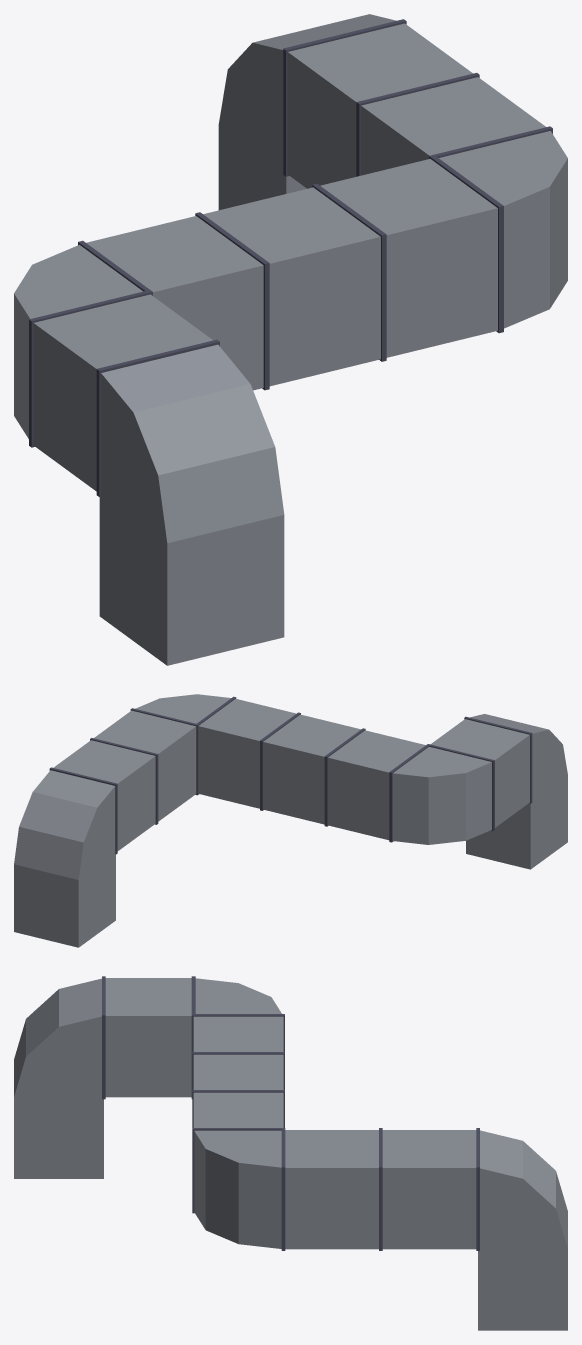
File: SM_BuildingsDecor_25.fbx
The picture shows the model from 3 angles, top to bottom: view 1: azimuth 30°, elevation 25°; view 2: azimuth 150°, elevation 25°; view 3: azimuth 270°, elevation 25°; orthographic projection. The views are drawn at different scales.
Visible parts, largest first — view 1: SM_BuildingsDecor_25; view 2: SM_BuildingsDecor_25; view 3: SM_BuildingsDecor_25.
Part boxes in pixels (x1,y1,x2,y2): SM_BuildingsDecor_25: (14,14,567,665); SM_BuildingsDecor_25: (14,694,567,947); SM_BuildingsDecor_25: (14,976,567,1330).
Bounding box in the file's own units: 2.41 × 0.9672 × 2.96.
